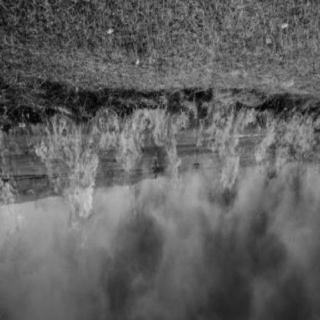Fire: (3, 103, 195, 231)
